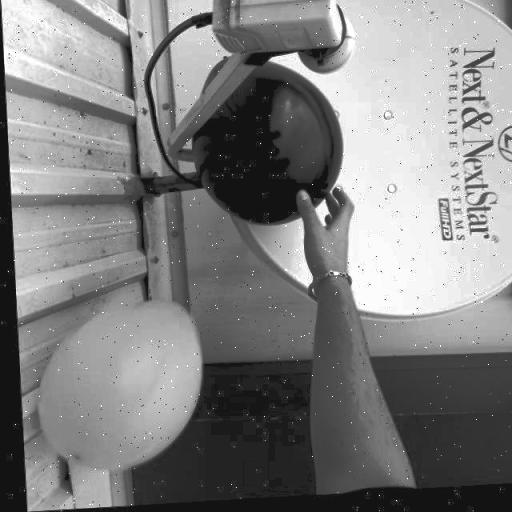balloon: (30, 300, 203, 476), (185, 54, 344, 232)
